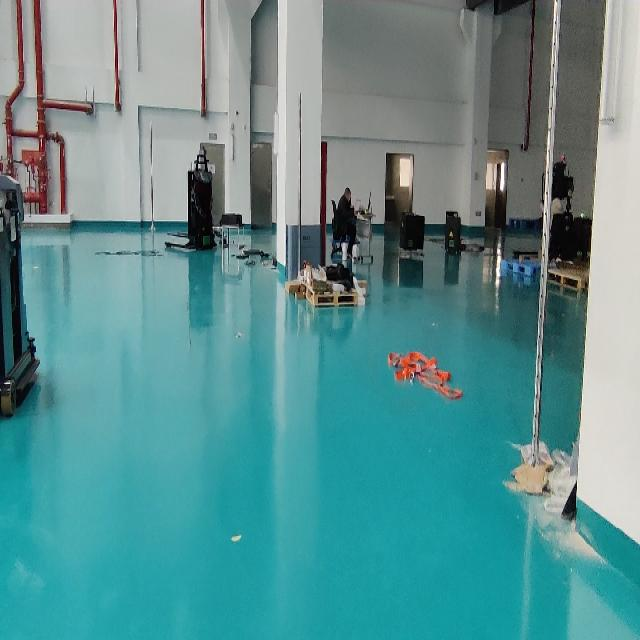euro: (549, 263, 586, 292), (305, 291, 363, 305)
